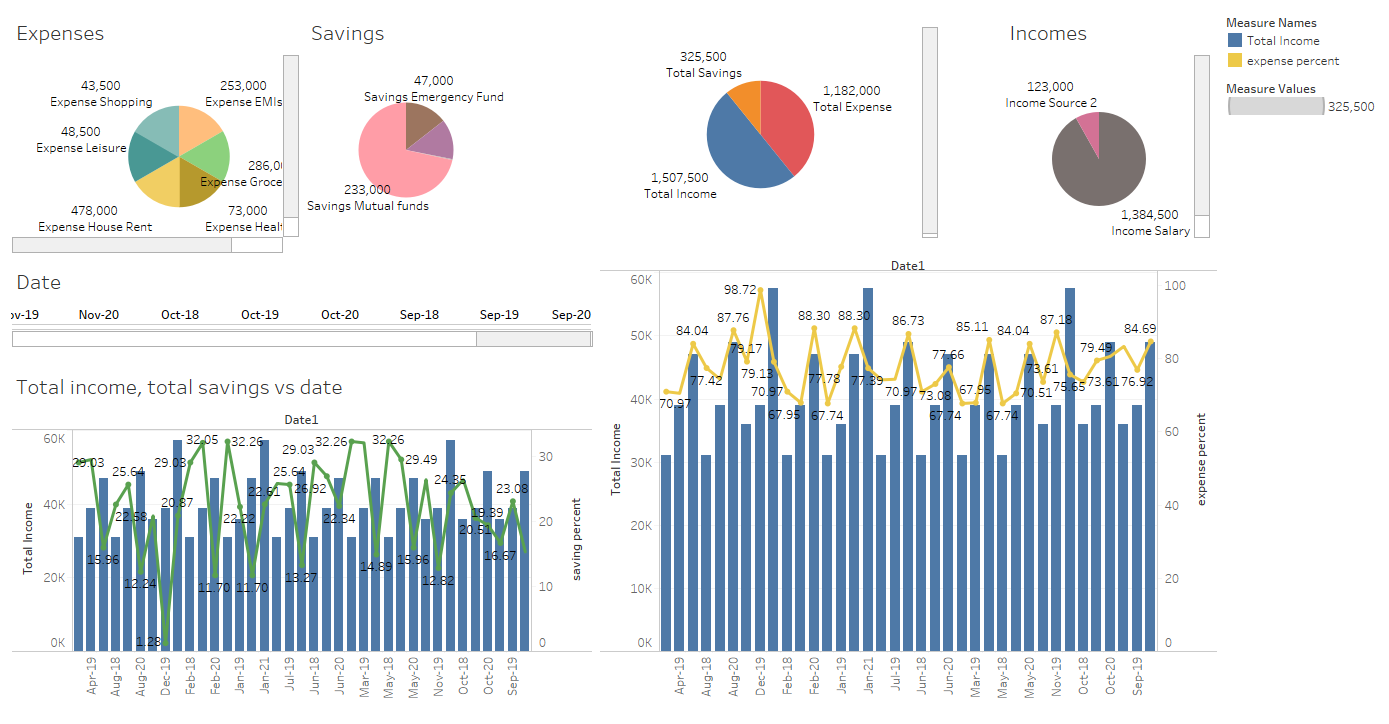

This screenshot's page, from the dashboard's own definition file:
{"tool":"tableau","page":{"name":"Dashboard 1","canvas":[1000,1000],"units":"permille","ordinal":0},"visuals":[{"type":"worksheet","box":[0,0,1000,1000]},{"type":"worksheet","param":"horz","box":[5.8,11.1,988.5,977.9]},{"type":"worksheet","box":[5.8,11.1,873.3,977.9]},{"type":"worksheet","title":"Date","mark":"Automatic","cols":["Date"],"box":[5.8,11.1,436.7,120.2]},{"type":"worksheet","title":"Savings","mark":"Pie","box":[442.4,11.1,234.3,321.8]},{"type":"worksheet","title":"Sheet 6","mark":"Pie","box":[676.8,11.1,202.3,321.8]},{"type":"worksheet","param":"vert","box":[879.1,11.1,115.2,977.9]},{"type":"worksheet","title":"Total income, total expenses vs date","mark":"Bar","rows":["Total Income","Calculation_1011902569748725763"],"cols":["Date"],"param":"[federated.07zrg3v0bft8dd18i148k0hhzs69].[:Measure Names]","box":[879.1,11.1,115.2,91.2]},{"type":"worksheet","title":"Savings","mark":"Pie","param":"[federated.07zrg3v0bft8dd18i148k0hhzs69].[Multiple Values]","box":[879.1,102.2,115.2,63.5]},{"type":"worksheet","title":"Expenses","mark":"Pie","box":[5.8,131.2,226.8,368.8]},{"type":"worksheet","title":"Sheet 7","mark":"Pie","box":[232.5,131.2,209.9,368.8]},{"type":"worksheet","title":"Total income, total expenses vs date","mark":"Bar","rows":["Total Income","Calculation_1011902569748725763"],"cols":["Date"],"box":[442.4,332.9,436.6,656.1]},{"type":"worksheet","title":"Total income, total savings vs date","mark":"Bar","rows":["Total Income","Calculation_1011902569747357698"],"cols":["Date"],"box":[5.8,500,436.7,488.9]}]}

Visuals, with their boxes on the dashboard's canvas, which has no fixed pixel size, in thousandths of its width and height (x1, y1, x2, y2). These are canvas units, not pixel positions in the 1389x724 screenshot, which may show the page scaled, cropped or inside an application window:
worksheet: region(0, 0, 1000, 1000)
worksheet: region(6, 11, 994, 989)
worksheet: region(6, 11, 879, 989)
"Date" worksheet: region(6, 11, 442, 131)
"Savings" worksheet (Pie marks): region(442, 11, 677, 333)
"Sheet 6" worksheet (Pie marks): region(677, 11, 879, 333)
worksheet: region(879, 11, 994, 989)
"Total income, total expenses vs date" worksheet (Bar marks): region(879, 11, 994, 102)
"Savings" worksheet (Pie marks): region(879, 102, 994, 166)
"Expenses" worksheet (Pie marks): region(6, 131, 233, 500)
"Sheet 7" worksheet (Pie marks): region(232, 131, 442, 500)
"Total income, total expenses vs date" worksheet (Bar marks): region(442, 333, 879, 989)
"Total income, total savings vs date" worksheet (Bar marks): region(6, 500, 442, 989)
